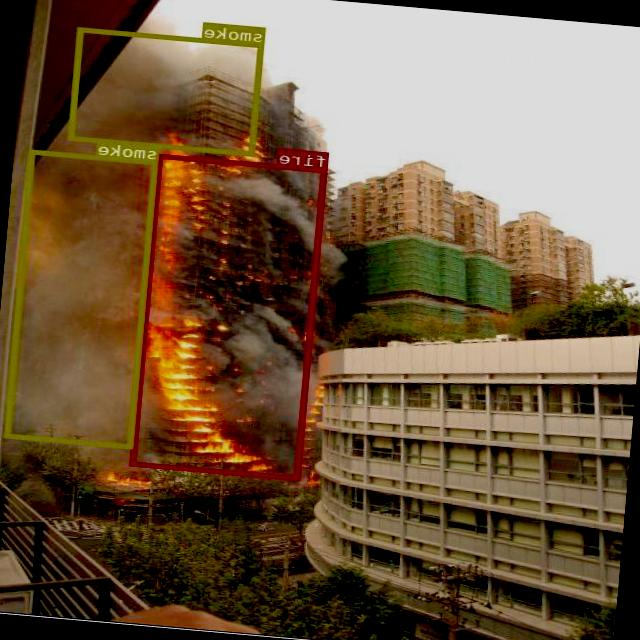fire: (130, 153, 329, 480)
smoke: (6, 148, 159, 448), (69, 26, 265, 156)
